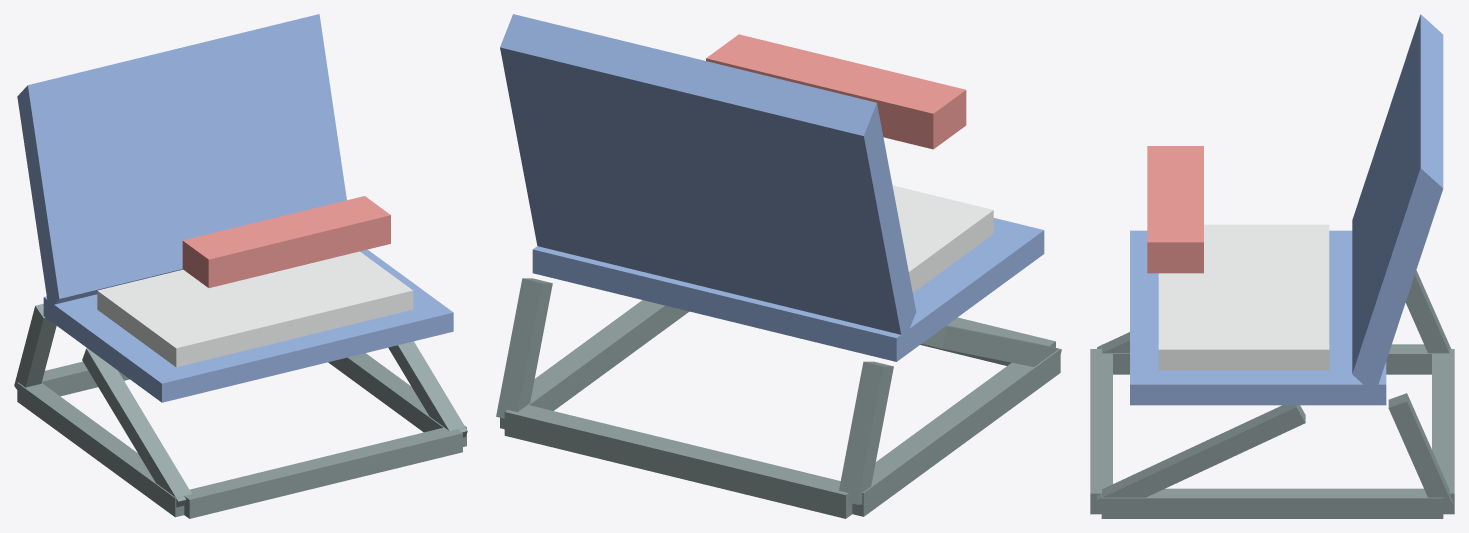
The model's file is babyBouncer.glb.
3 renders of one model, left to right at view 1: azimuth 30°, elevation 25°; view 2: azimuth 150°, elevation 25°; view 3: azimuth 270°, elevation 25°, orthographic. The views are drawn at different scales.
Visible parts, largest first — view 1: babyBouncer; view 2: babyBouncer; view 3: babyBouncer.
Boxes of the visible parts, bbox=[...] form: babyBouncer: bbox=[14, 14, 467, 518]; babyBouncer: bbox=[496, 14, 1061, 518]; babyBouncer: bbox=[1090, 14, 1454, 518].
Bounding box in the file's own units: 0.32 × 0.34 × 0.32.
